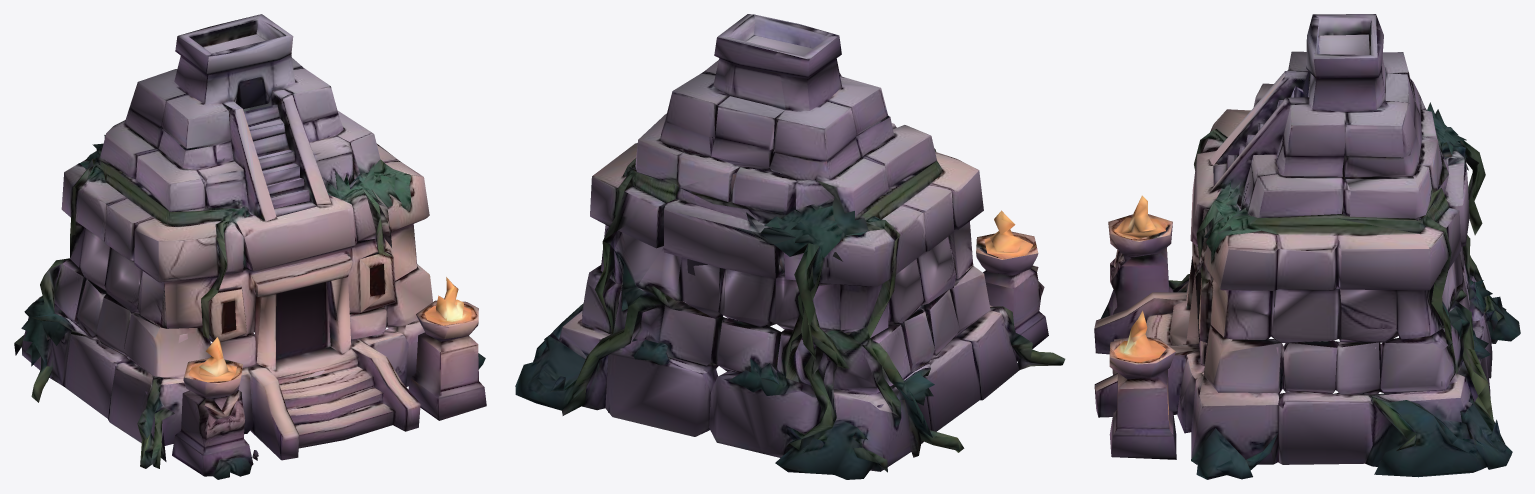
File: casa_1.glb
3 views of the same model, side by side, from view 1: azimuth 30°, elevation 25°; view 2: azimuth 150°, elevation 25°; view 3: azimuth 270°, elevation 25° (orthographic). The views are drawn at different scales.
Parts seen in each view (by area): view 1: casa1; view 2: casa1; view 3: casa1.
Boxes of the visible parts, x1,y1,x2,y2 form: casa1: (14,14,486,479); casa1: (515,14,1065,479); casa1: (1094,14,1520,479).
Bounding box in the file's own units: 0.8135 × 0.6948 × 0.7521.
1 material, 1 textured.
